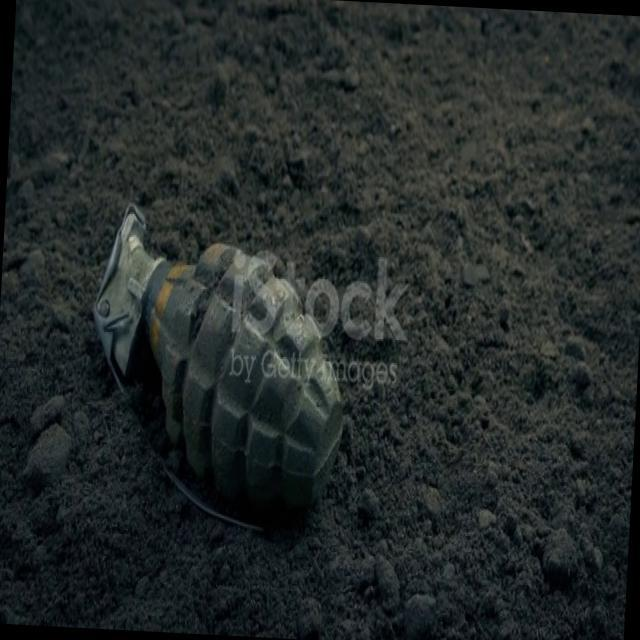grenade: (87, 199, 359, 532)
